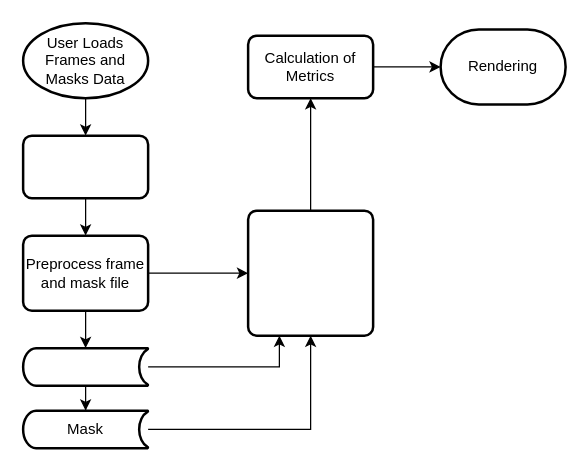
Some shapes in this 588 by 470 pixel diagram are drawn without their labels. The shapes that lost their labels are listed below. From the top down, each one's box as (x1, y1, x2, y2) in pixels, then its label:
(21, 134, 149, 199): User Clicks Process
(246, 209, 374, 336): Prediction
(21, 346, 149, 386): Frame
